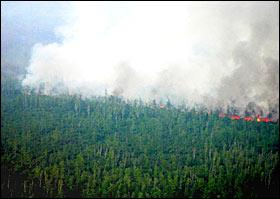fire: (207, 111, 273, 123)
yanwu: (22, 0, 279, 98)
